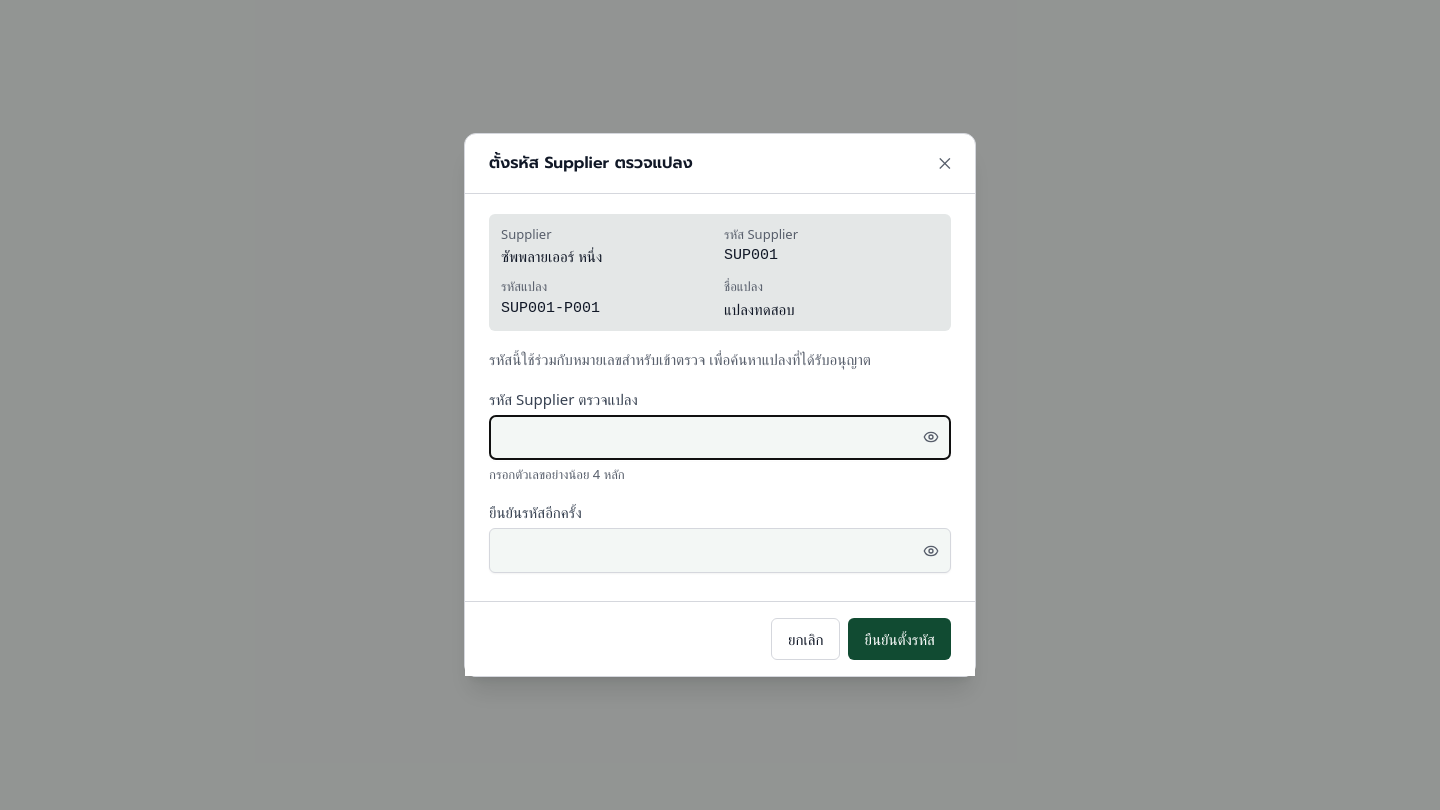
Test: PlotInspectionPasswordModal — client validation › blocks a code shorter than 4 digits
The image size is (1440, 810).
Type "123" into the password field labelled "รหัส Supplier ตรวจแปลง".
click(720, 437); type("123")  # box [489,415,951,460]
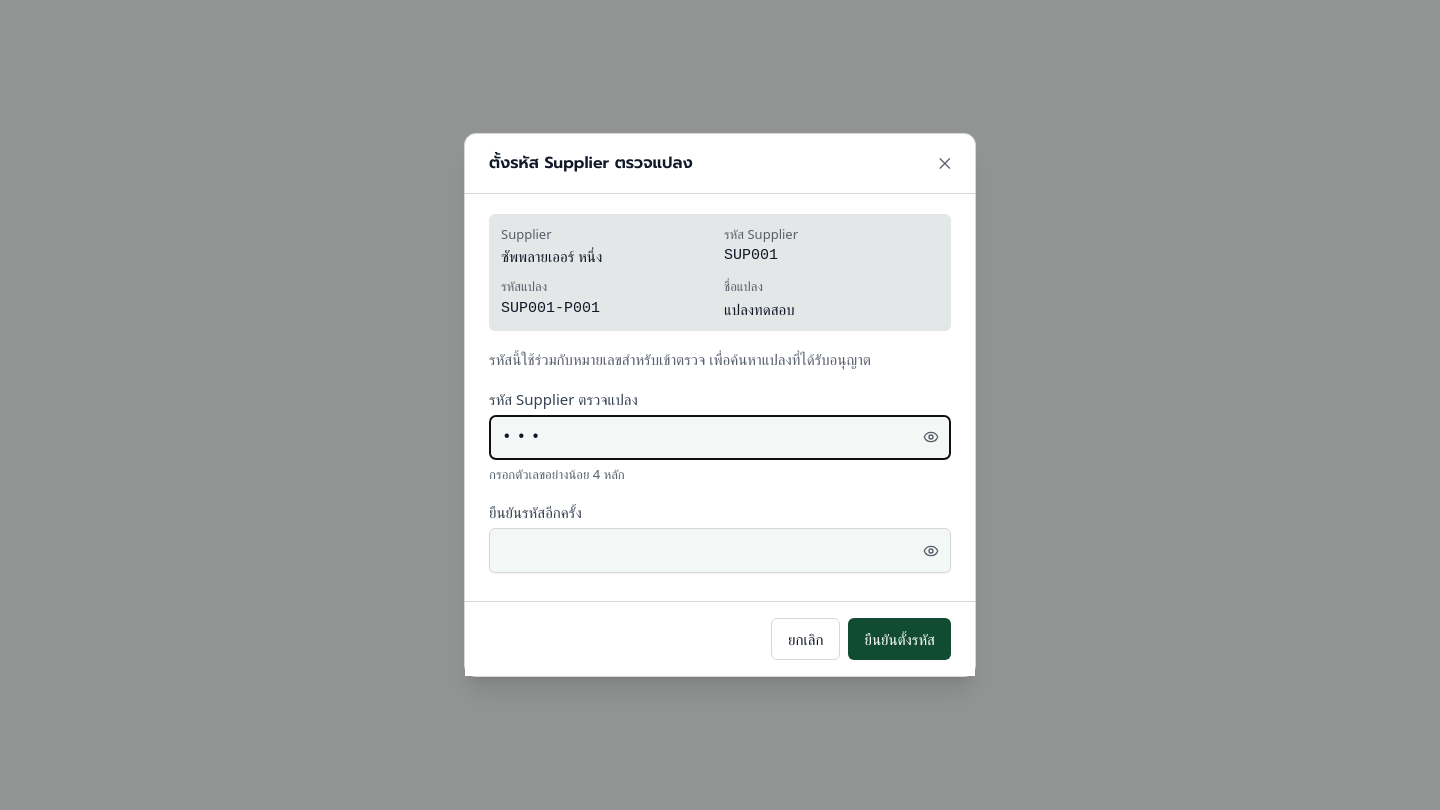
Type "123" into the password field labelled "ยืนยันรหัสอีกครั้ง".
click(720, 551); type("123")  # box [489,528,951,573]
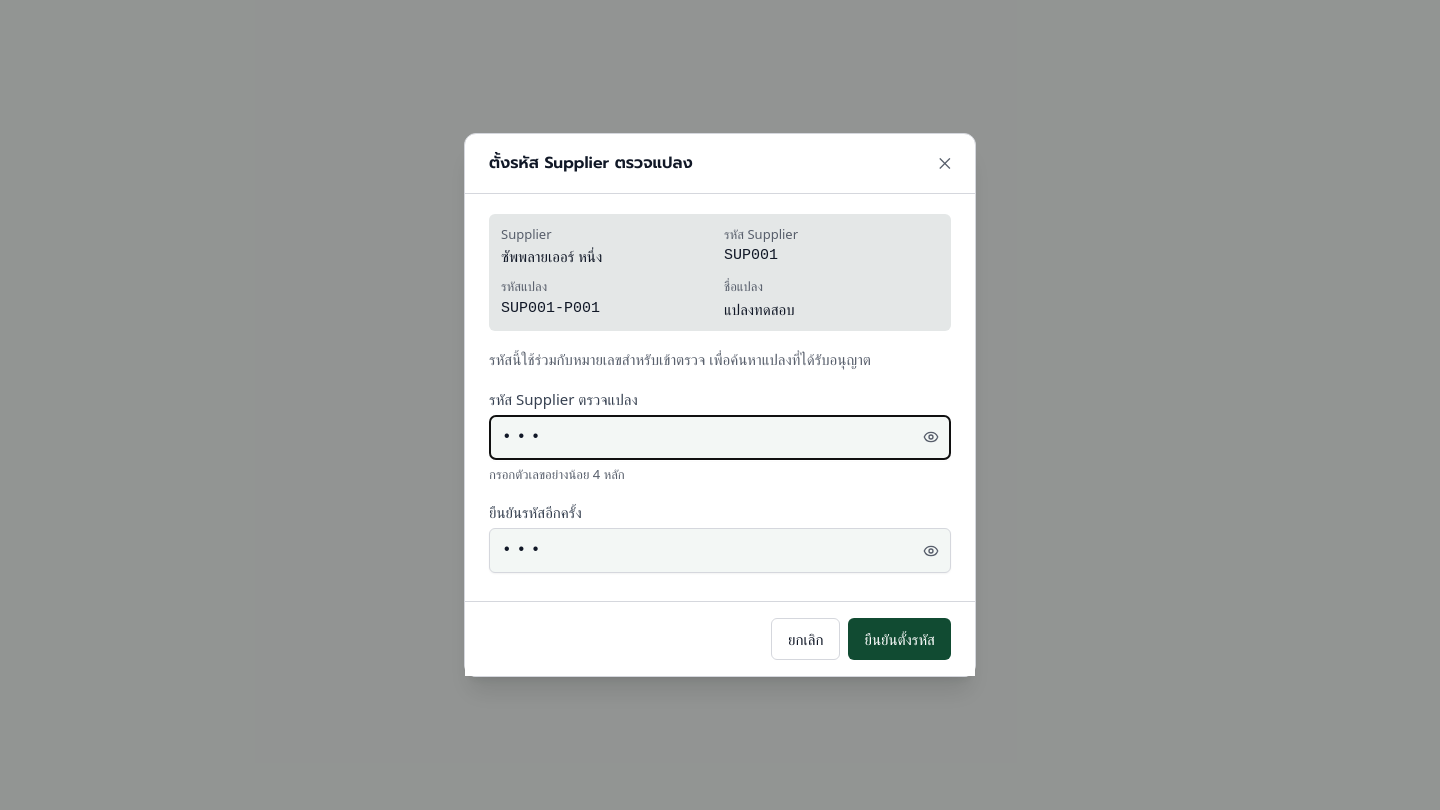
Click the button "ยืนยันตั้งรหัส".
click(900, 639)  # box [848,618,951,660]
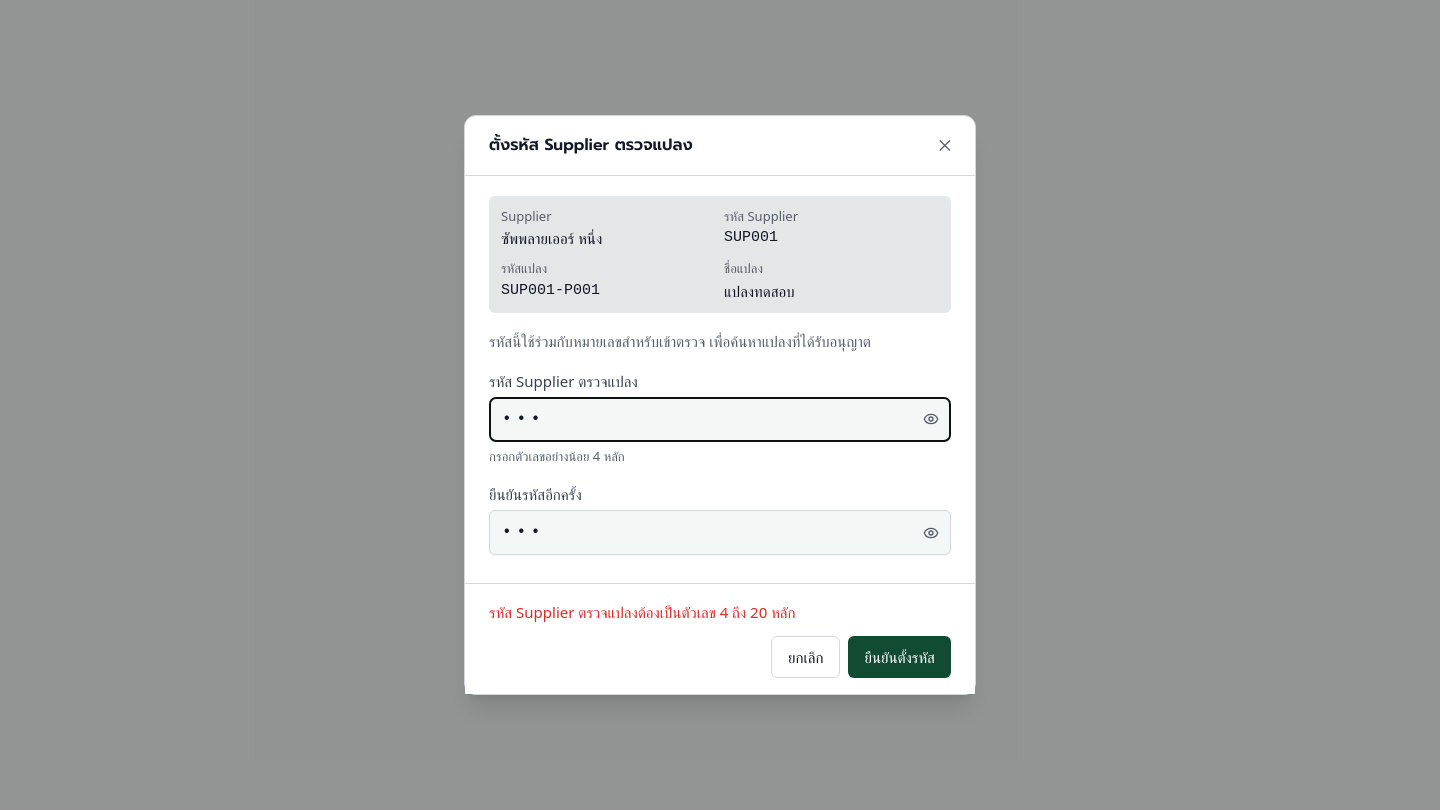
Result: the text "รหัส Supplier ตรวจแปลงต้องเป็นตัวเลข 4 ถึง 20 หลัก" is shown at [489,602,796,622]
